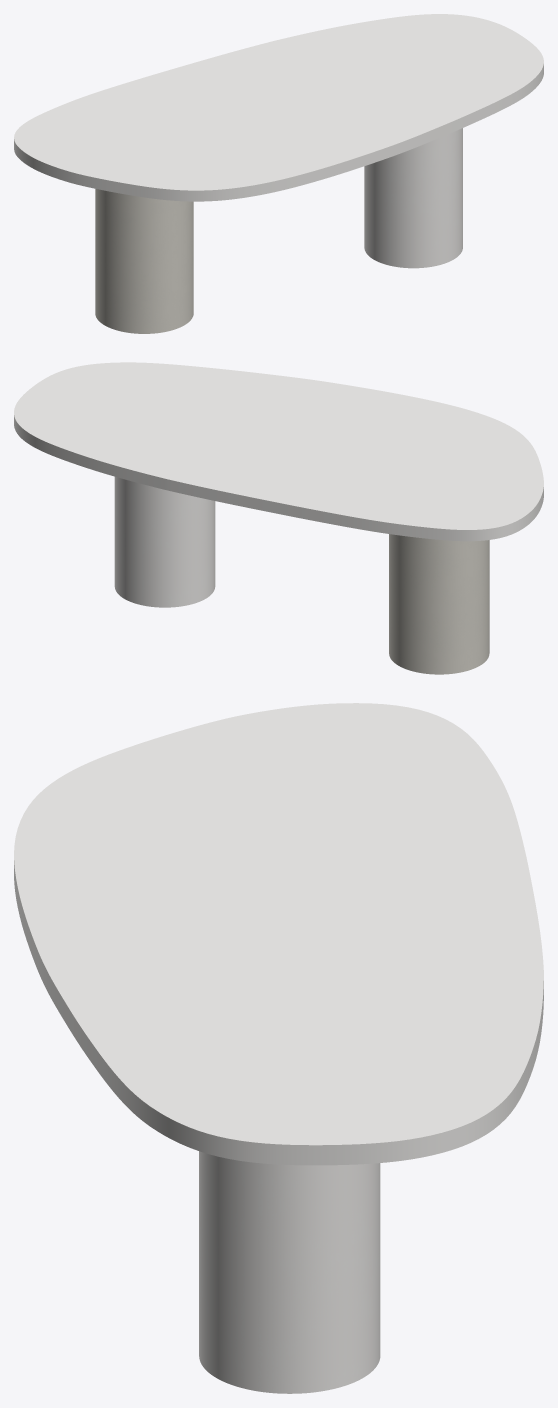
The model's file is purewhite_leaf2_standard_stream.glb.
The picture shows the model from 3 angles, top to bottom: view 1: azimuth 30°, elevation 25°; view 2: azimuth 150°, elevation 25°; view 3: azimuth 270°, elevation 25°; orthographic projection. The views are drawn at different scales.
Parts seen in each view (by area): view 1: standard_leaf2, stream; view 2: standard_leaf2, stream; view 3: standard_leaf2, stream.
Part boxes in pixels (left/top/right/bottom): standard_leaf2: left=14, top=14, right=543, bottom=201; stream: left=95, top=128, right=462, bottom=333; standard_leaf2: left=14, top=362, right=543, bottom=541; stream: left=114, top=476, right=489, bottom=674; standard_leaf2: left=14, top=703, right=543, bottom=1165; stream: left=199, top=1151, right=380, bottom=1393.
Size of the model in its own units: 7.5 by 2.52 by 3.8.
Materials: 2 (2 with a texture image).
